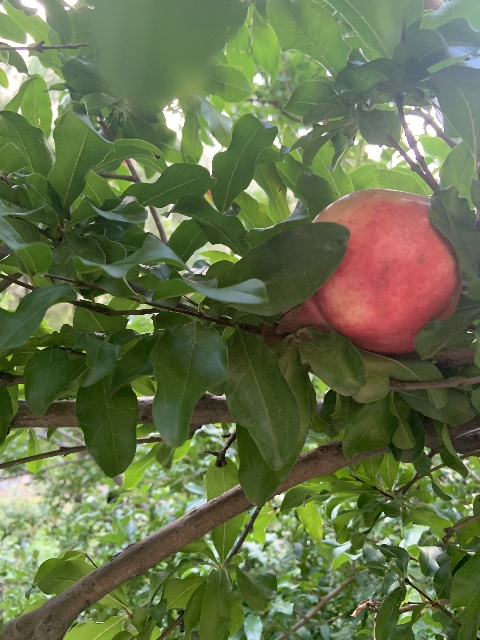ripe: (273, 189, 463, 354)
